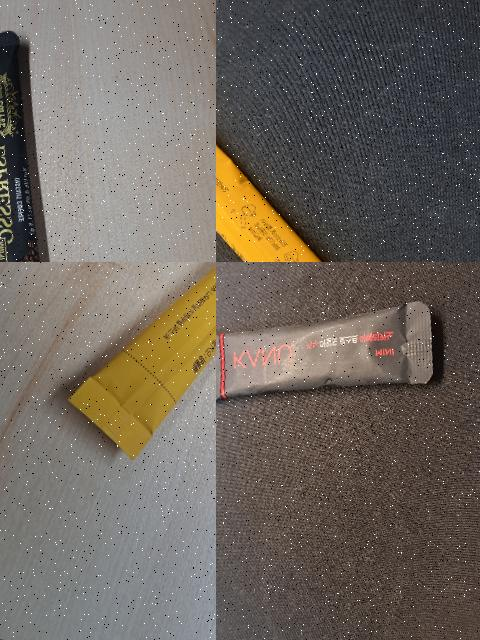KANU: (216, 262, 449, 455)
espresso_mini: (0, 13, 106, 262)
mix_coffee: (216, 46, 480, 262), (49, 262, 216, 497)
